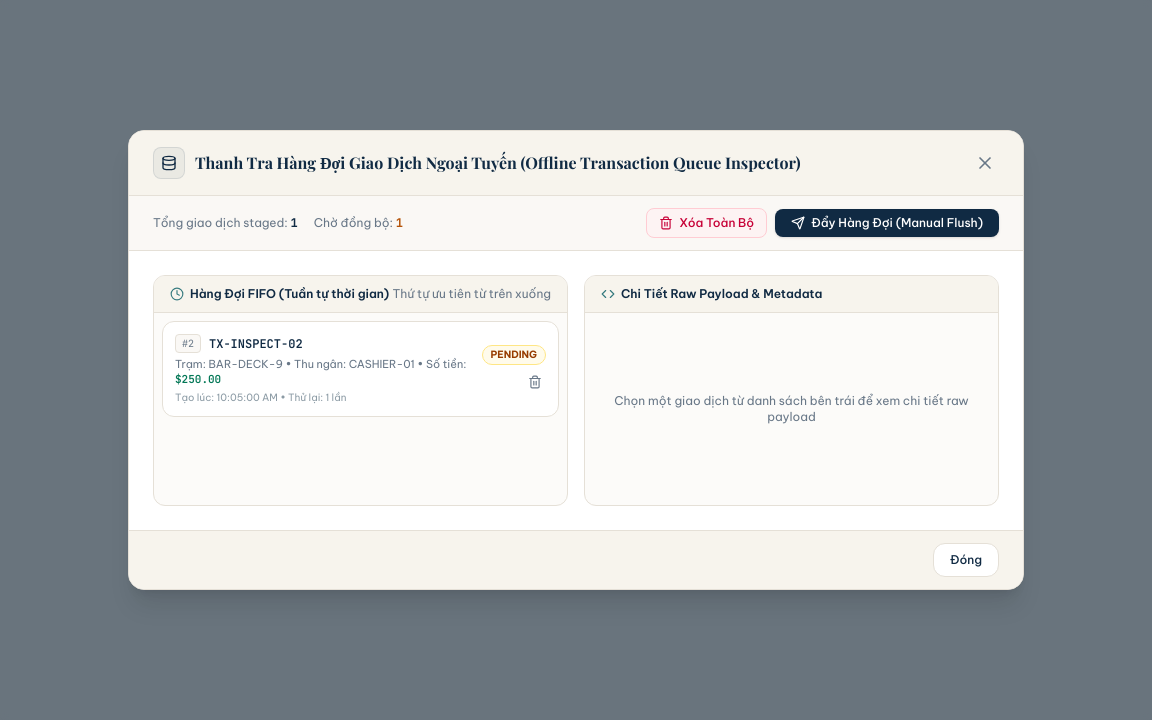
OfflineStatusBadge & Queue Inspector Modal Tests (KAN-253, KAN-434, KAN-435) › selects a transaction with native button keyboard accessibility to view raw payload
Click the button with aria-label "Xem chi tiết giao dịch #2 TX-INSPECT-02". click: {"x": 322, "y": 369}
box: [175,334,470,404]
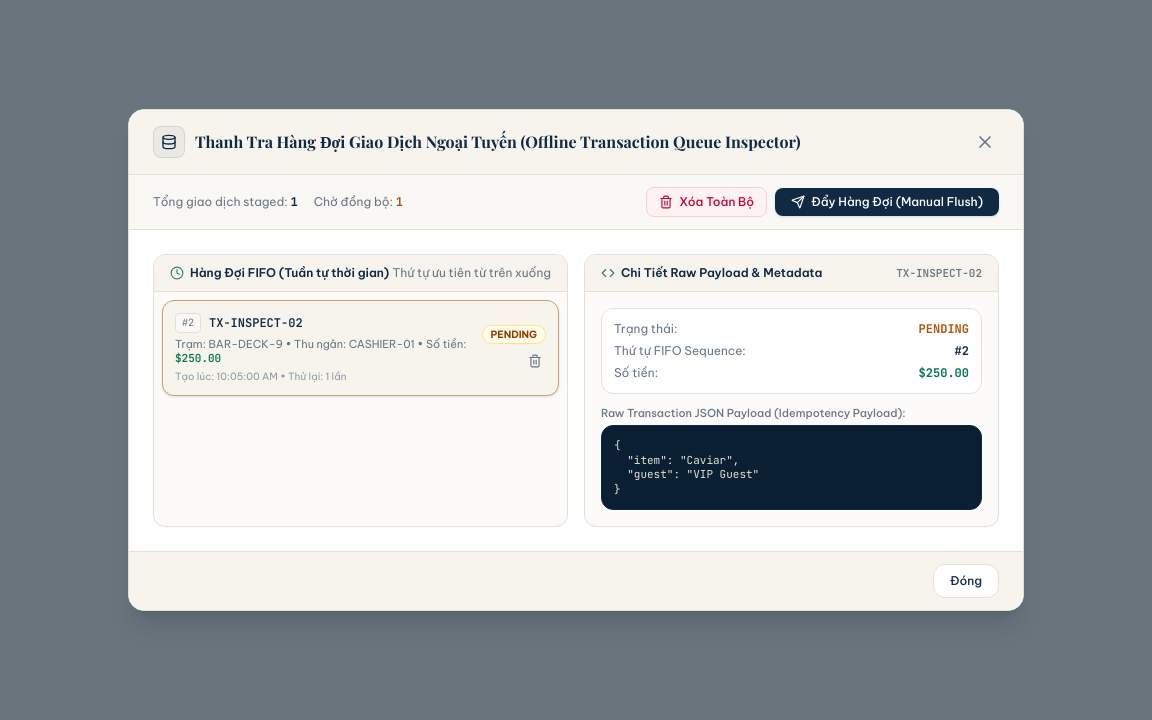
Now the text "Raw Transaction JSON Payload (Idempotency Payload):" is shown, box [601,406,906,420]
Now the text "{ \"item\": \"Caviar\", \"guest\": \"VIP Guest\" }" is shown, box [601,425,982,510]
